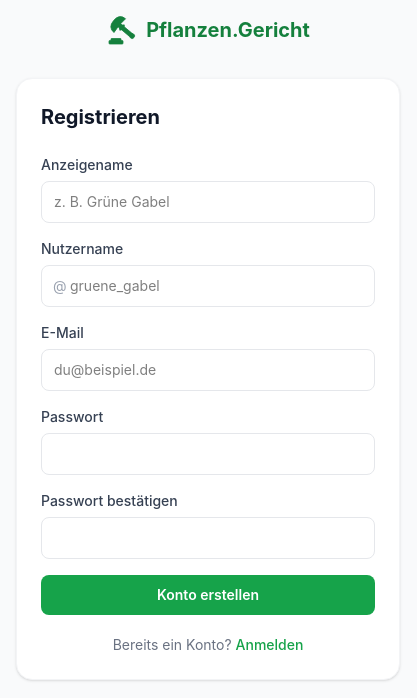
RegisterView › when registering and email confirmation is needed › sends the entered data and asks to check the email
The width and height of the screenshot is (417, 698).
In the field with id "displayName": (208, 202) top-left (41, 181), bottom-right (375, 223), type " Grüne Gabel "
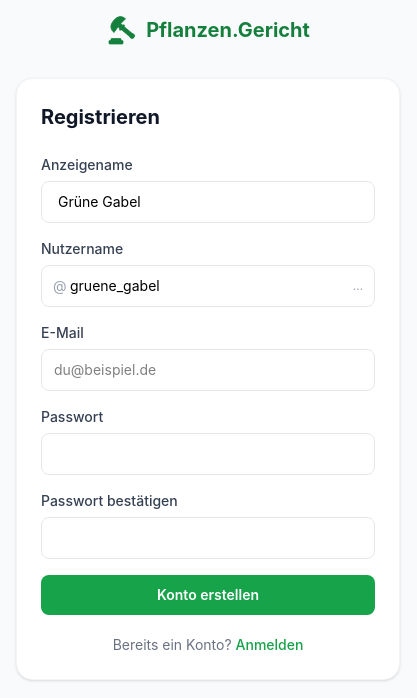
In the field with id "username": (208, 286) top-left (41, 265), bottom-right (375, 307), type "gabel"
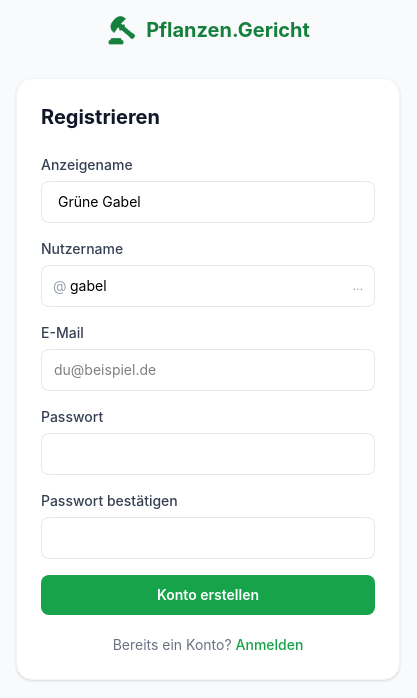
In the field with id "email": (208, 370) top-left (41, 349), bottom-right (375, 391), type "a@b.de"
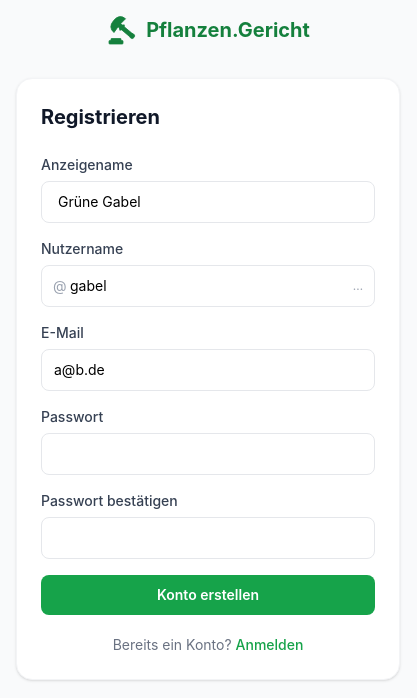
In the password field labelled "Passwort": (208, 454) top-left (41, 433), bottom-right (375, 475), type "long-enough"
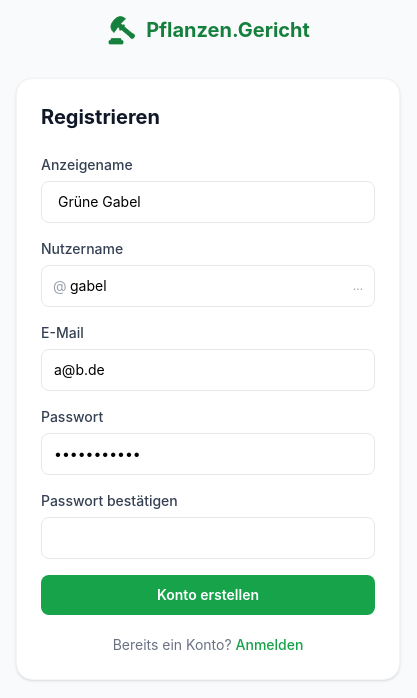
In the password field labelled "Passwort bestätigen": (208, 538) top-left (41, 517), bottom-right (375, 559), type "long-enough"
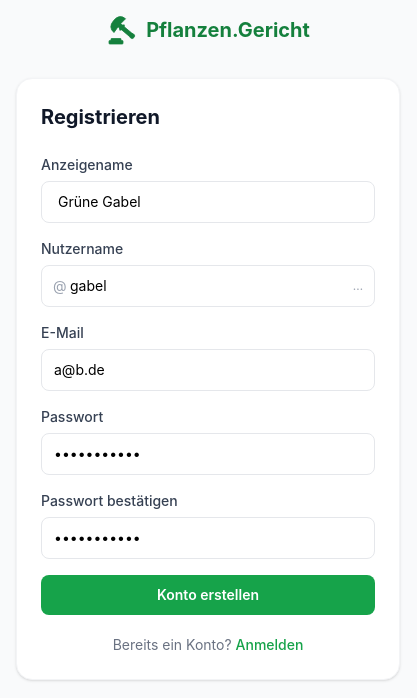
Submit the form, box top-left (41, 155), bottom-right (375, 615)
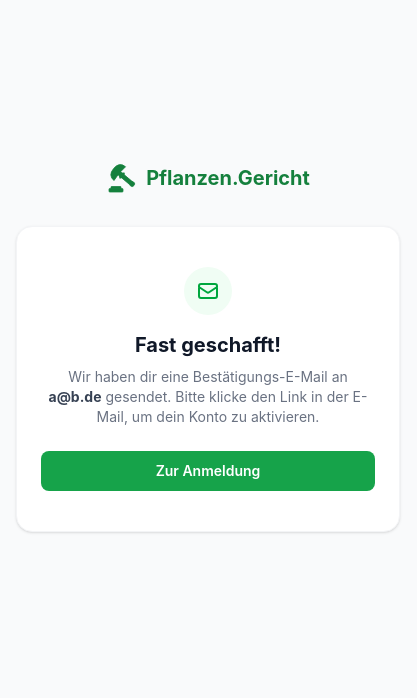
Expected: the text "Fast geschafft!" is shown, top-left (135, 333), bottom-right (281, 357)
Expected: the text "a@b.de" is shown, top-left (48, 388), bottom-right (102, 405)
